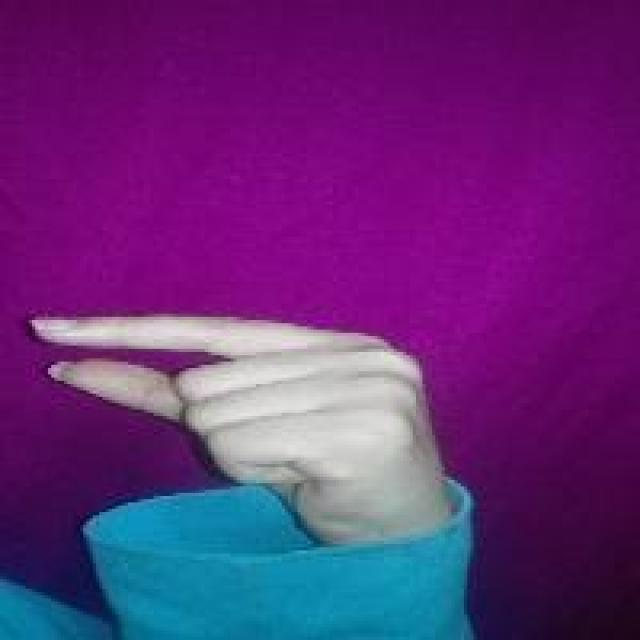G: (28, 308, 446, 530)
